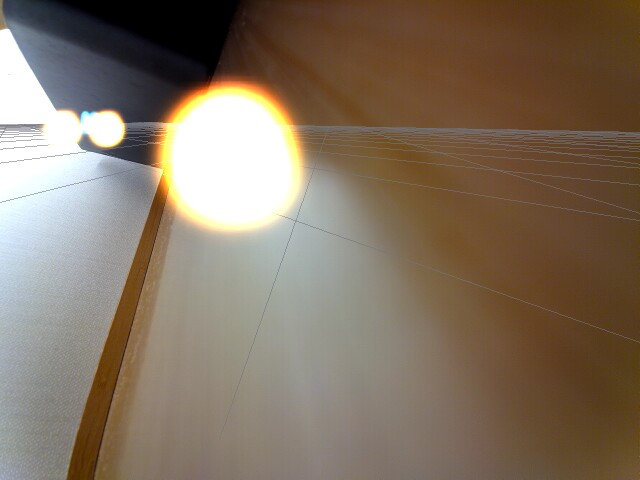firebig: (156, 67, 310, 242)
